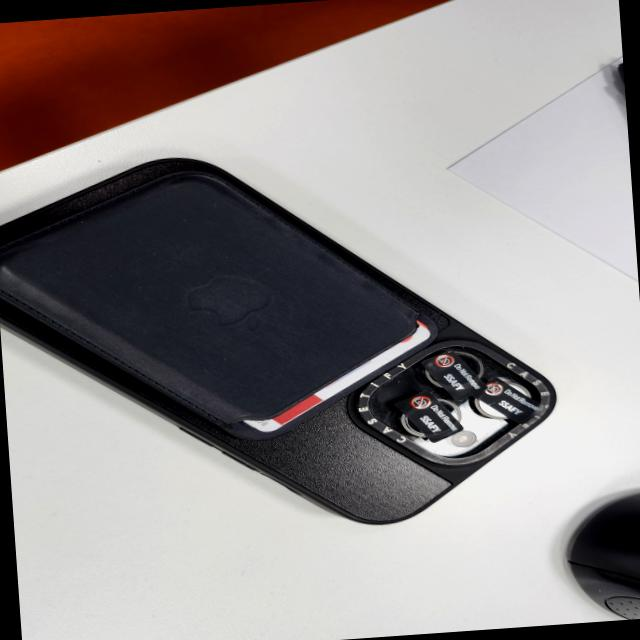phone: (0, 130, 576, 549)
sticker: (472, 371, 546, 426), (394, 388, 461, 442), (422, 347, 486, 402)
